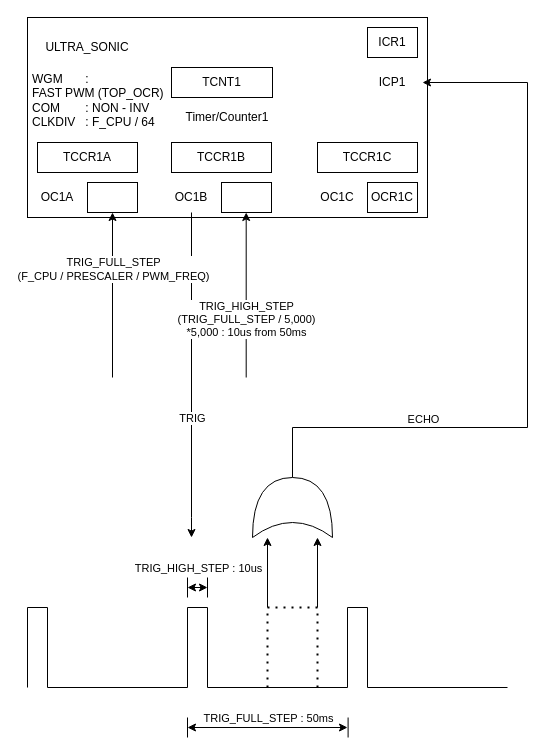
Some shapes in this 553 by 756 pixel diagram are drawn without their labels. The centre of each missing label's shape, as x and y in pixels:
OCR1A: the point at 112,197
OCR1B: the point at 246,197
